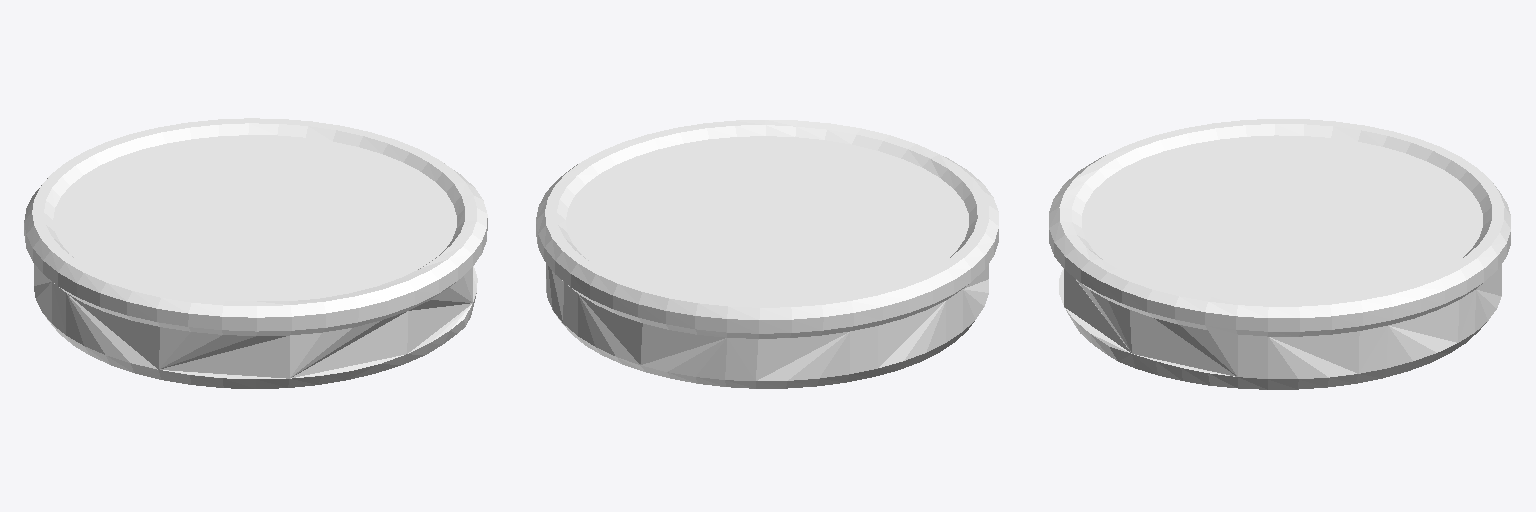
Rendered from embroidery.obj.
3 renders of one model, left to right at view 1: azimuth 30°, elevation 25°; view 2: azimuth 150°, elevation 25°; view 3: azimuth 270°, elevation 25°, orthographic.
Parts seen in each view (by area): view 1: Volume4; view 2: Volume4; view 3: Volume4.
Boxes of the visible parts, box(x1,y1,x2,y2) form: Volume4: box(24, 118, 487, 388); Volume4: box(536, 120, 998, 388); Volume4: box(1049, 119, 1510, 389).
Size of the model in its own units: 250 by 51.13 by 249.